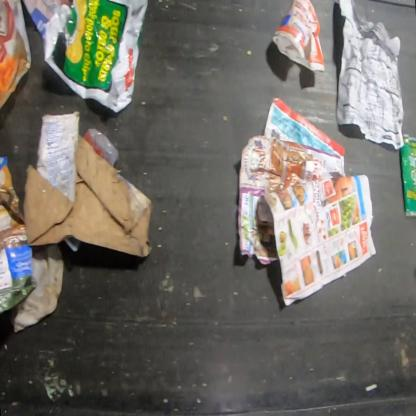cardboard: (23, 113, 153, 256)
rigid_plastic: (272, 0, 325, 73), (83, 127, 122, 167), (64, 236, 79, 252)
soft_plastic: (42, 0, 149, 115), (400, 134, 416, 218)
